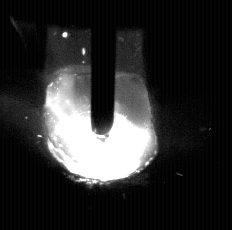arame: (92, 0, 116, 141)
poca: (47, 0, 158, 230)
